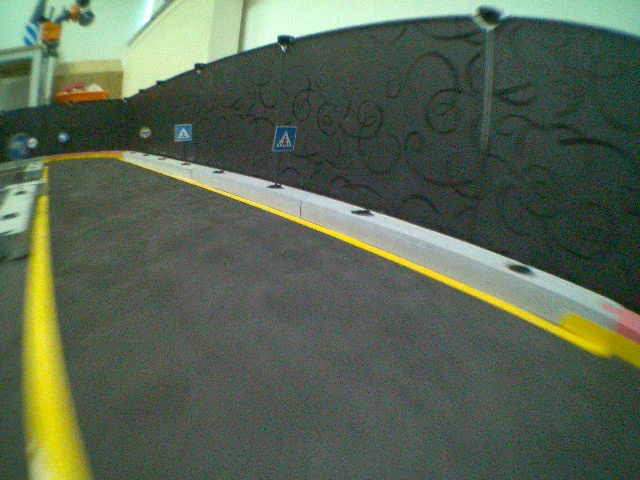crossing: (271, 123, 297, 154), (174, 122, 194, 145)
